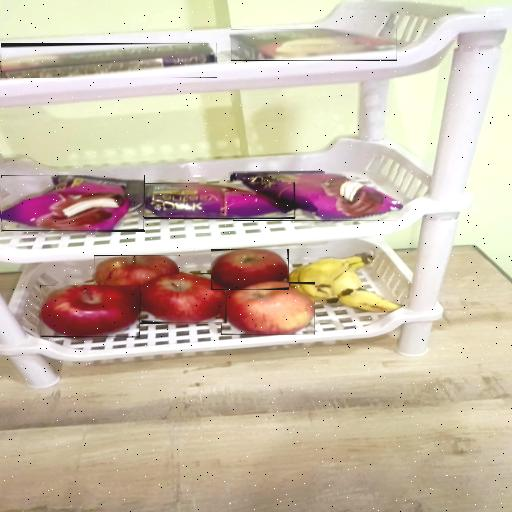Apple: (41, 285, 139, 337), (221, 283, 315, 335), (138, 273, 226, 323), (211, 249, 289, 289), (94, 256, 179, 292)
Choco Fills: (1, 43, 216, 78), (231, 29, 396, 60)
Choco Pie: (233, 171, 403, 220), (2, 175, 143, 231), (144, 183, 294, 218)
